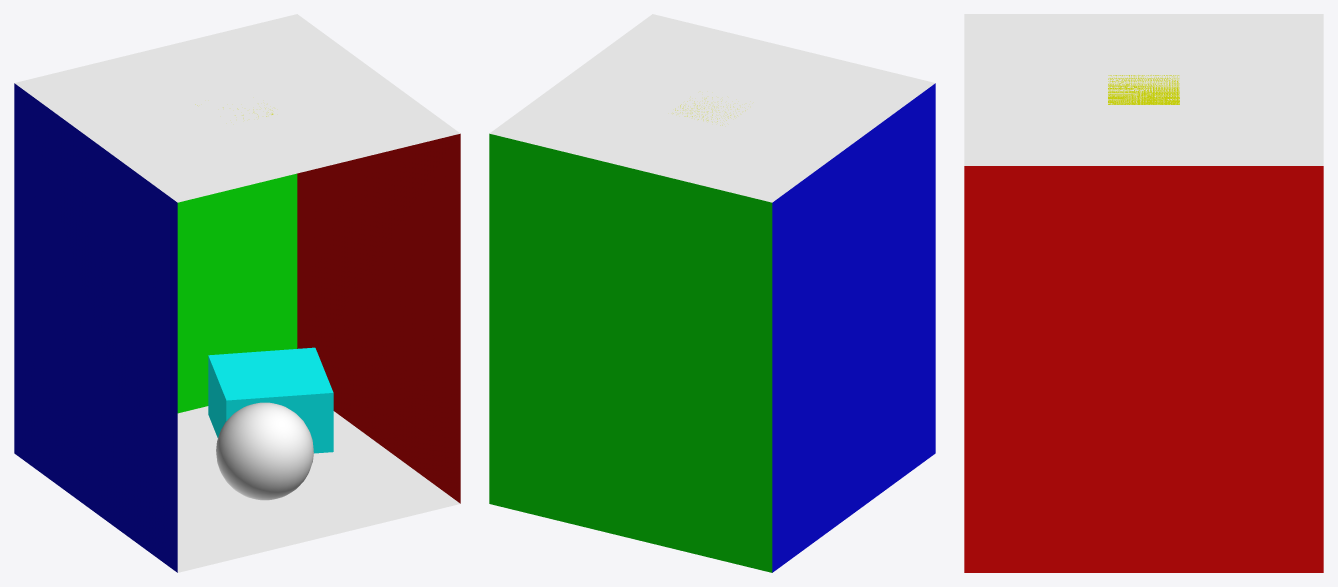
3 renders of one model, left to right at view 1: azimuth 30°, elevation 25°; view 2: azimuth 150°, elevation 25°; view 3: azimuth 270°, elevation 25°, orthographic. The views are drawn at different scales.
Parts seen in each view (by area): view 1: 平面; view 2: 平面; view 3: 平面.
Boxes of the visible parts, bbox=[...] form: 平面: bbox=[14, 14, 460, 572]; 平面: bbox=[489, 14, 935, 572]; 平面: bbox=[964, 14, 1323, 572].
Size of the model in its own units: 10 by 12.5 by 10.
Materials: 5 (1 with a texture image).
